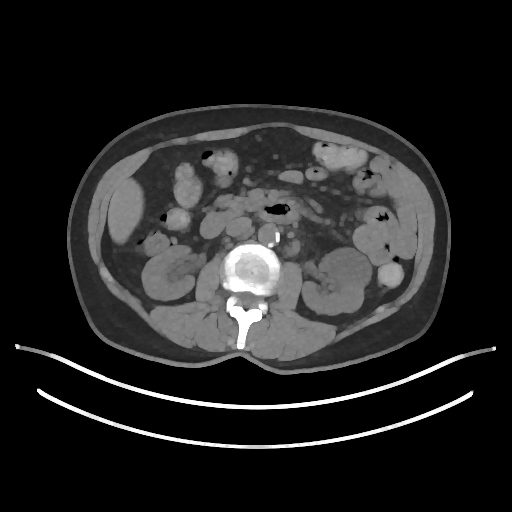Lesion: (315, 244, 375, 300)
